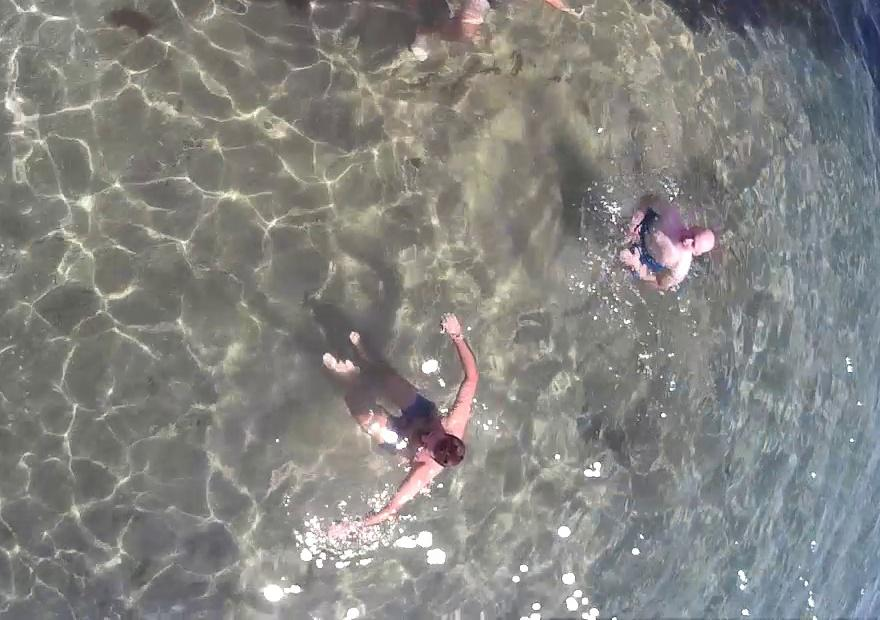human: (329, 289, 481, 545), (609, 170, 714, 308), (420, 0, 574, 63)
